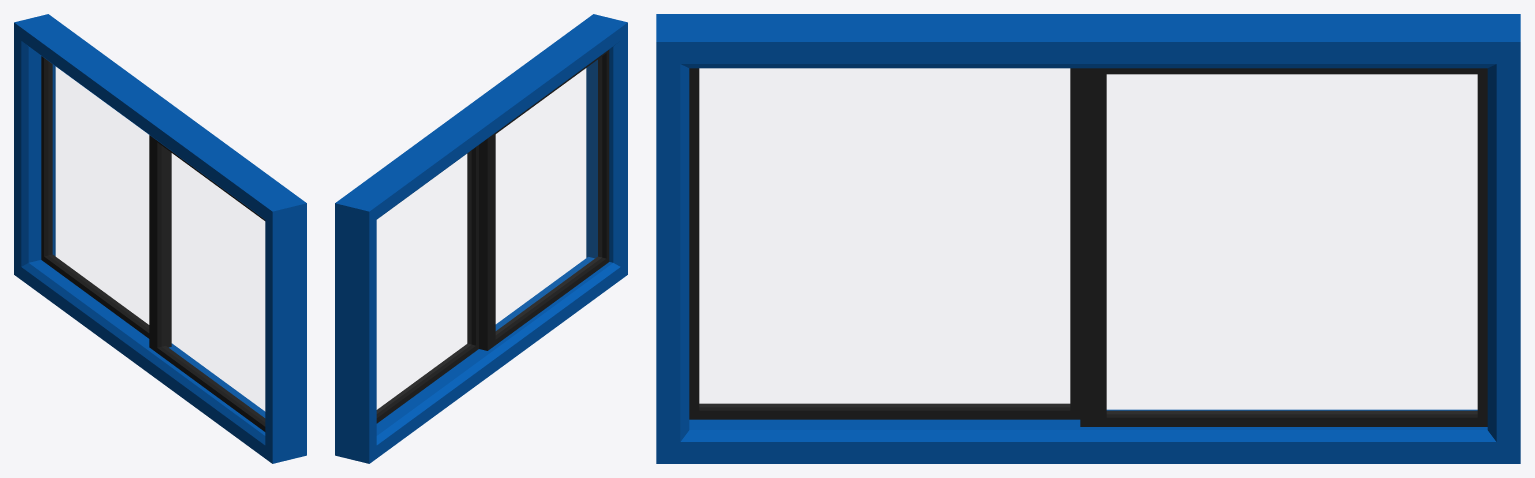
The model's file is Ventana(1).fbx.
3 views of the same model, side by side, from view 1: azimuth 30°, elevation 25°; view 2: azimuth 150°, elevation 25°; view 3: azimuth 270°, elevation 25° (orthographic). The views are drawn at different scales.
Visible parts, largest first — view 1: Cube; view 2: Cube; view 3: Cube.
Part boxes in pixels (x1=…): Cube: x1=14, y1=14, x2=306, y2=463; Cube: x1=335, y1=14, x2=627, y2=463; Cube: x1=656, y1=14, x2=1520, y2=463.
Bounding box in the file's own units: 100 × 700 × 1300.
Materials: 2 (1 with a texture image).
